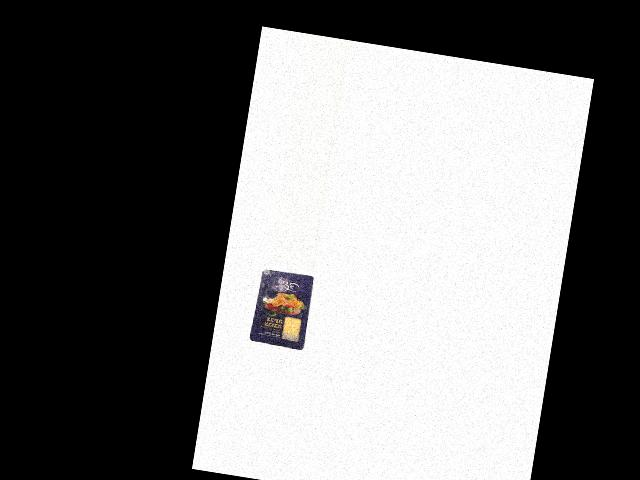cheese: (247, 266, 314, 350)
